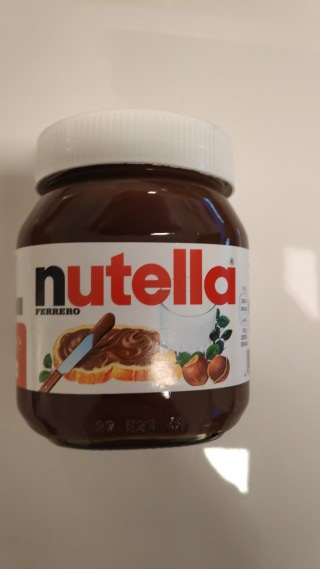nutella: (12, 103, 252, 452)
